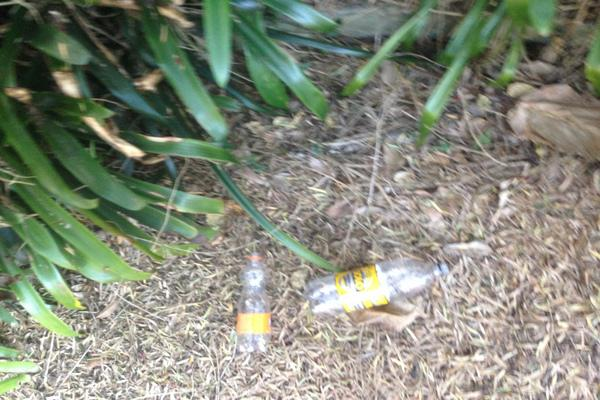Plastic Bottle: (305, 260, 449, 314), (238, 252, 273, 350)
